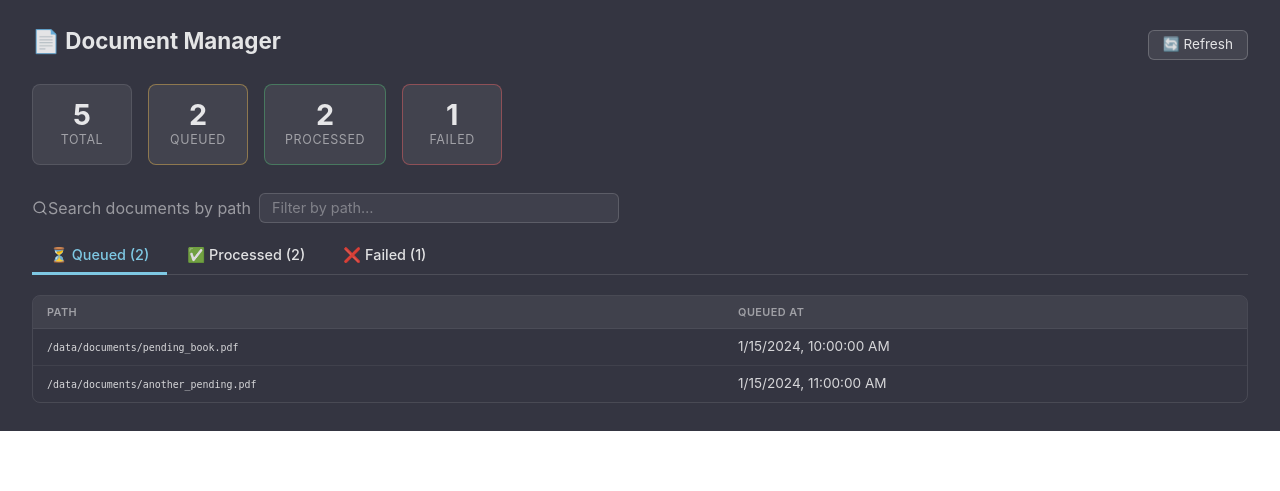
it: AdminDocumentsPage › switches to processed tab and shows page_count and chunk_count
Click the tab "✅ Processed (2)": [246, 257] box top-left (169, 239), bottom-right (323, 275)
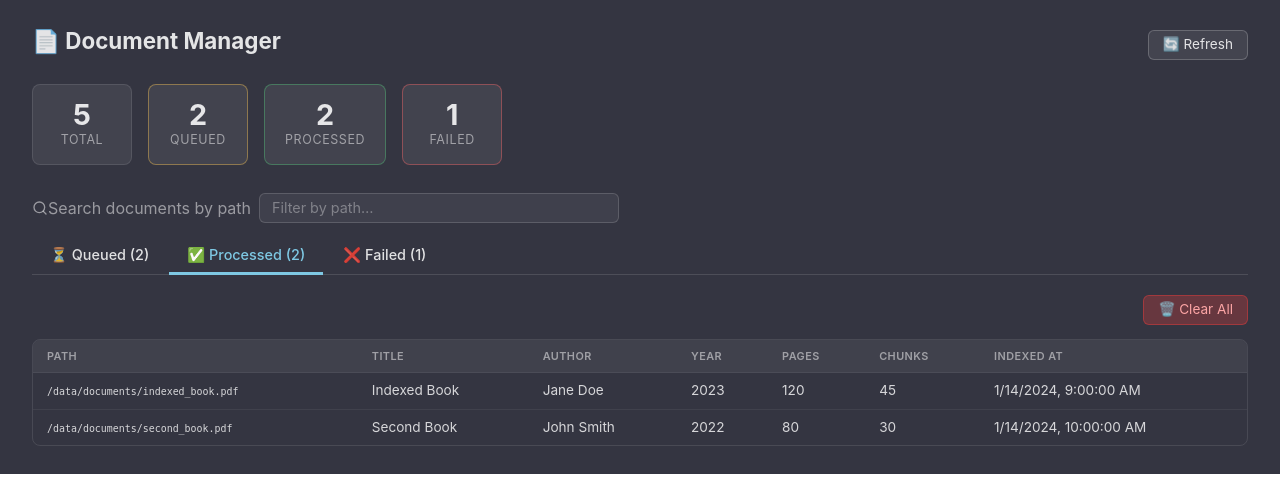
Expected: the text "Indexed Book" is shown, top-left (358, 372), bottom-right (529, 409)
Expected: the text "Jane Doe" is shown, top-left (529, 372), bottom-right (677, 409)
Expected: the text "120" is shown, top-left (768, 372), bottom-right (865, 409)
